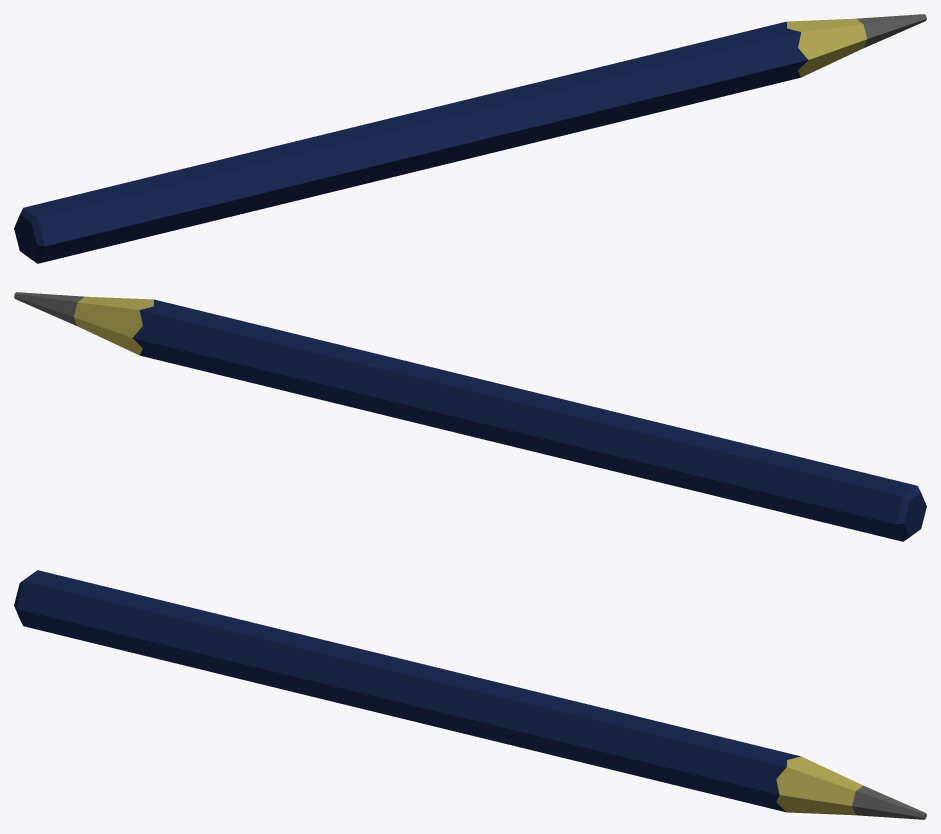
Rendered from pencilShorter.fbx.
3 renders of one model, top to bottom at view 1: azimuth 30°, elevation 25°; view 2: azimuth 150°, elevation 25°; view 3: azimuth 330°, elevation 25°, orthographic.
Visible parts, largest first — view 1: Cylinder, Cylinder.002, Cylinder.001; view 2: Cylinder, Cylinder.002, Cylinder.001; view 3: Cylinder, Cylinder.002, Cylinder.001.
Boxes of the visible parts, x1,y1,x2,y2 form: Cylinder: (14, 21, 808, 263); Cylinder.002: (787, 18, 867, 77); Cylinder.001: (856, 14, 926, 47); Cylinder: (132, 299, 926, 541); Cylinder.002: (73, 296, 153, 355); Cylinder.001: (14, 292, 84, 325); Cylinder: (14, 570, 800, 812); Cylinder.002: (776, 756, 863, 815); Cylinder.001: (852, 785, 926, 819).
Size of the model in its own units: 17.14 by 0.8275 by 0.9555.
